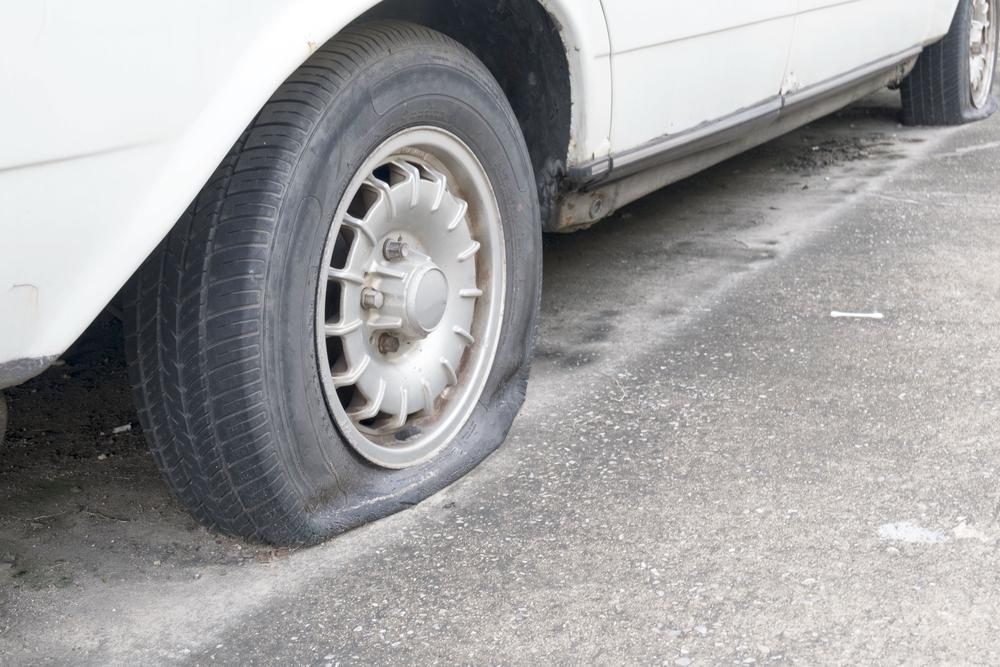tire flat: (121, 19, 541, 551), (901, 0, 1000, 124)
